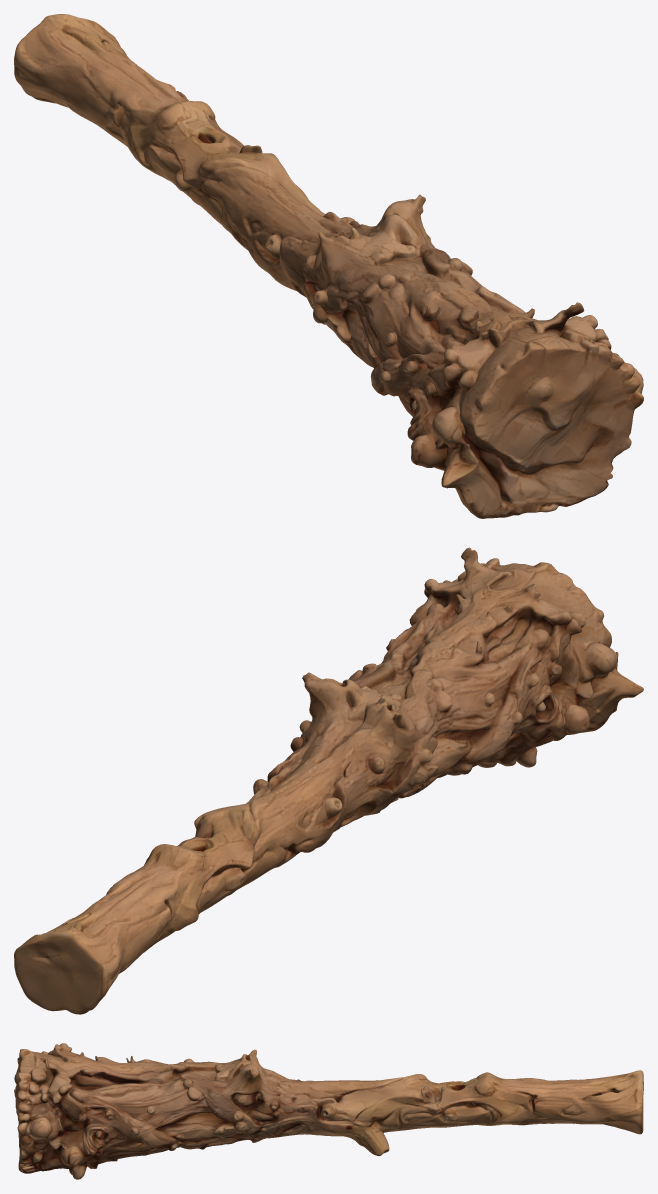
3 views of the same model, one above another, from view 1: azimuth 30°, elevation 25°; view 2: azimuth 150°, elevation 25°; view 3: azimuth 270°, elevation 25° (orthographic). The views are drawn at different scales.
Parts seen in each view (by area): view 1: tripo_node_a6a36443-9853-4b18-b034-581d6e872759; view 2: tripo_node_a6a36443-9853-4b18-b034-581d6e872759; view 3: tripo_node_a6a36443-9853-4b18-b034-581d6e872759.
Boxes of the visible parts, box(x1,y1,x2,y2) form: tripo_node_a6a36443-9853-4b18-b034-581d6e872759: box(14, 14, 643, 518); tripo_node_a6a36443-9853-4b18-b034-581d6e872759: box(14, 547, 643, 1014); tripo_node_a6a36443-9853-4b18-b034-581d6e872759: box(14, 1043, 643, 1179).
Size of the model in its own units: 0.2521 by 0.2204 by 1.
Materials: 1 (1 with a texture image).
